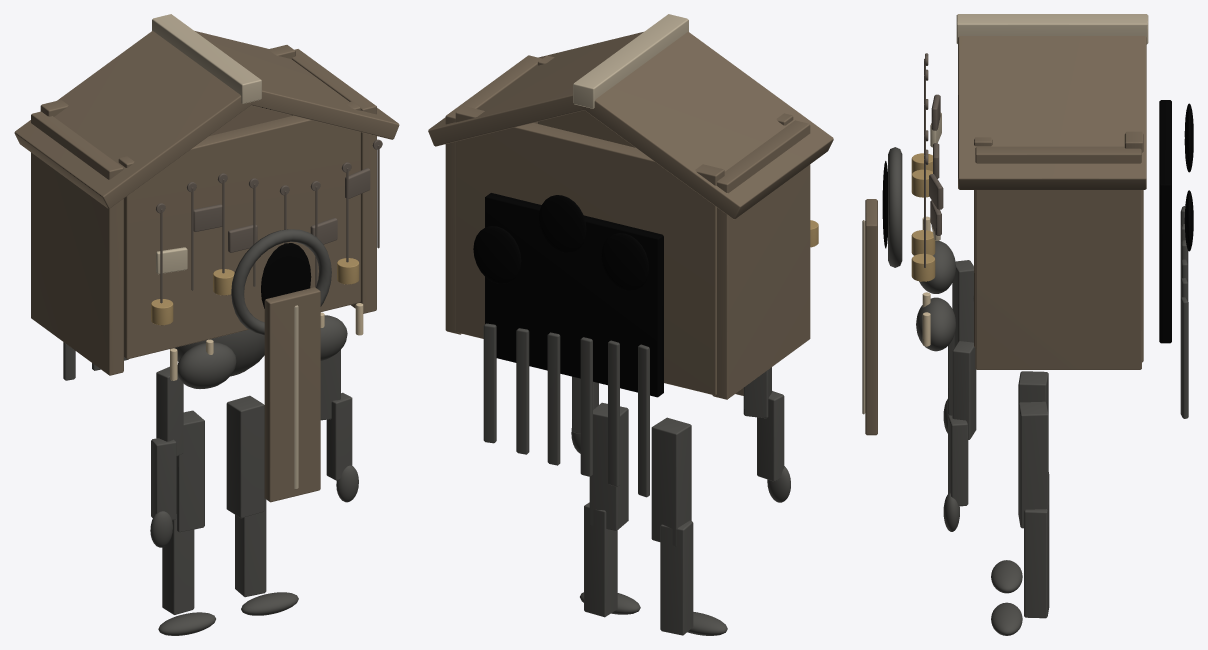
The model's file is penance_carrier_end_goal_v4_silhouette.glb.
3 views of the same model, side by side, from view 1: azimuth 30°, elevation 25°; view 2: azimuth 150°, elevation 25°; view 3: azimuth 270°, elevation 25° (orthographic). The views are drawn at different scales.
Visible parts, largest first — view 1: PC_V4_shrine_front_rotten_wall, PC_V4_roof_left_steep_slab, PC_V4_shrine_left_side_wall, PC_V4_long_door_mask_front, PC_V4_roof_right_steep_slab, PC_V4_right_wrapped_thigh, PC_V4_shrine_right_side_wall, PC_V4_roof_ridge_heavy_rot, PC_V4_left_wrapped_thigh, PC_V4_head_hood_oval_ring, PC_V4_left_wrapped_shin, PC_V4_right_wrapped_shin (+20 smaller); view 2: PC_V4_shrine_rear_rotten_wall, PC_V4_back_black_rotten_hollow, PC_V4_roof_left_steep_slab, PC_V4_shrine_left_side_wall, PC_V4_roof_right_steep_slab, PC_V4_left_wrapped_thigh, PC_V4_left_wrapped_shin, PC_V4_roof_ridge_heavy_rot, PC_V4_right_wrapped_thigh, PC_V4_shrine_right_side_wall, PC_V4_right_wrapped_shin, PC_V4_back_rotten_dark_hole_2 (+13 smaller); view 3: PC_V4_shrine_right_side_wall, PC_V4_roof_right_steep_slab, PC_V4_roof_ridge_heavy_rot, PC_V4_right_wrapped_thigh, PC_V4_back_black_rotten_hollow, PC_V4_long_door_mask_front, PC_V4_right_wrapped_shin, PC_V4_right_long_upper_arm_wrapped, PC_V4_head_hood_oval_ring, PC_V4_right_long_forearm_wrapped, PC_V4_left_long_upper_arm_wrapped, PC_V4_right_shoulder_under_mask (+13 smaller).
Boxes of the visible parts, x1,y1,x2,y2 form: PC_V4_shrine_front_rotten_wall: [118, 101, 360, 359]; PC_V4_roof_left_steep_slab: [14, 30, 255, 208]; PC_V4_shrine_left_side_wall: [31, 111, 123, 375]; PC_V4_long_door_mask_front: [264, 287, 320, 502]; PC_V4_roof_right_steep_slab: [195, 31, 399, 139]; PC_V4_right_wrapped_thigh: [226, 395, 264, 518]; PC_V4_shrine_right_side_wall: [291, 49, 376, 313]; PC_V4_roof_ridge_heavy_rot: [152, 14, 261, 103]; PC_V4_left_wrapped_thigh: [176, 410, 204, 532]; PC_V4_head_hood_oval_ring: [231, 229, 331, 335]; PC_V4_left_wrapped_shin: [162, 514, 194, 614]; PC_V4_right_wrapped_shin: [235, 498, 266, 597]; PC_V4_shrine_rear_rotten_wall: [455, 106, 724, 395]; PC_V4_back_black_rotten_hollow: [485, 193, 663, 397]; PC_V4_roof_left_steep_slab: [579, 31, 833, 219]; PC_V4_shrine_left_side_wall: [712, 120, 810, 399]; PC_V4_roof_right_steep_slab: [428, 32, 643, 146]; PC_V4_left_wrapped_thigh: [651, 417, 691, 546]; PC_V4_left_wrapped_shin: [660, 520, 693, 635]; PC_V4_roof_ridge_heavy_rot: [573, 14, 688, 108]; PC_V4_right_wrapped_thigh: [589, 402, 628, 531]; PC_V4_shrine_right_side_wall: [445, 55, 541, 334]; PC_V4_right_wrapped_shin: [584, 502, 617, 617]; PC_V4_back_rotten_dark_hole_2: [473, 226, 521, 283]; PC_V4_shrine_right_side_wall: [975, 146, 1141, 369]; PC_V4_roof_right_steep_slab: [958, 36, 1146, 189]; PC_V4_roof_ridge_heavy_rot: [956, 14, 1148, 44]; PC_V4_right_wrapped_thigh: [1018, 401, 1048, 528]; PC_V4_back_black_rotten_hollow: [1159, 100, 1171, 343]; PC_V4_long_door_mask_front: [865, 199, 877, 435]; PC_V4_right_wrapped_shin: [1024, 503, 1049, 618]; PC_V4_right_long_upper_arm_wrapped: [952, 341, 976, 439]; PC_V4_head_hood_oval_ring: [888, 147, 902, 267]; PC_V4_right_long_forearm_wrapped: [948, 415, 968, 506]; PC_V4_left_long_upper_arm_wrapped: [952, 260, 973, 347]; PC_V4_right_shoulder_under_mask: [916, 297, 955, 351].
Bounding box in the file's own units: 2.3 × 4.12 × 2.11.
